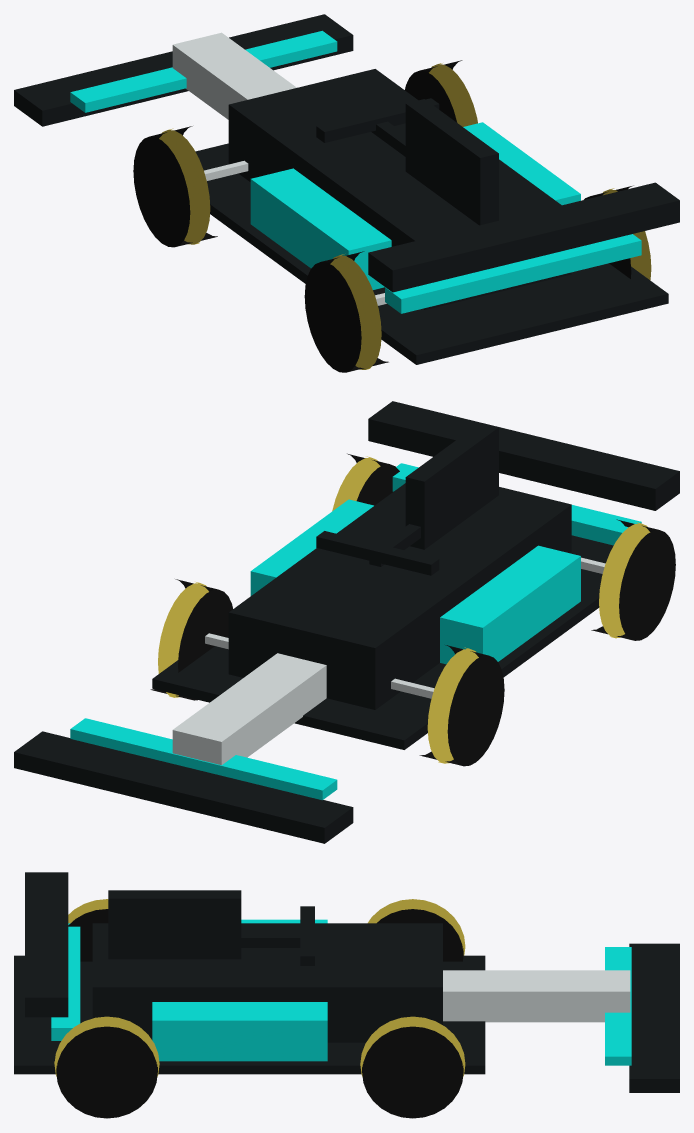
Rendered from mercedes-f1-inspired.gltf.
The picture shows the model from 3 angles, top to bottom: view 1: azimuth 30°, elevation 25°; view 2: azimuth 150°, elevation 25°; view 3: azimuth 270°, elevation 25°; orthographic projection. The views are drawn at different scales.
Parts seen in each view (by area): view 1: Mercedes-inspired Formula Car; view 2: Mercedes-inspired Formula Car; view 3: Mercedes-inspired Formula Car.
Part boxes in pixels (<box>): Mercedes-inspired Formula Car: <box>14,14,679,372</box>; Mercedes-inspired Formula Car: <box>14,401,679,843</box>; Mercedes-inspired Formula Car: <box>14,872,679,1118</box>.
Bounding box in the file's own units: 2.68 × 1.43 × 5.51.
